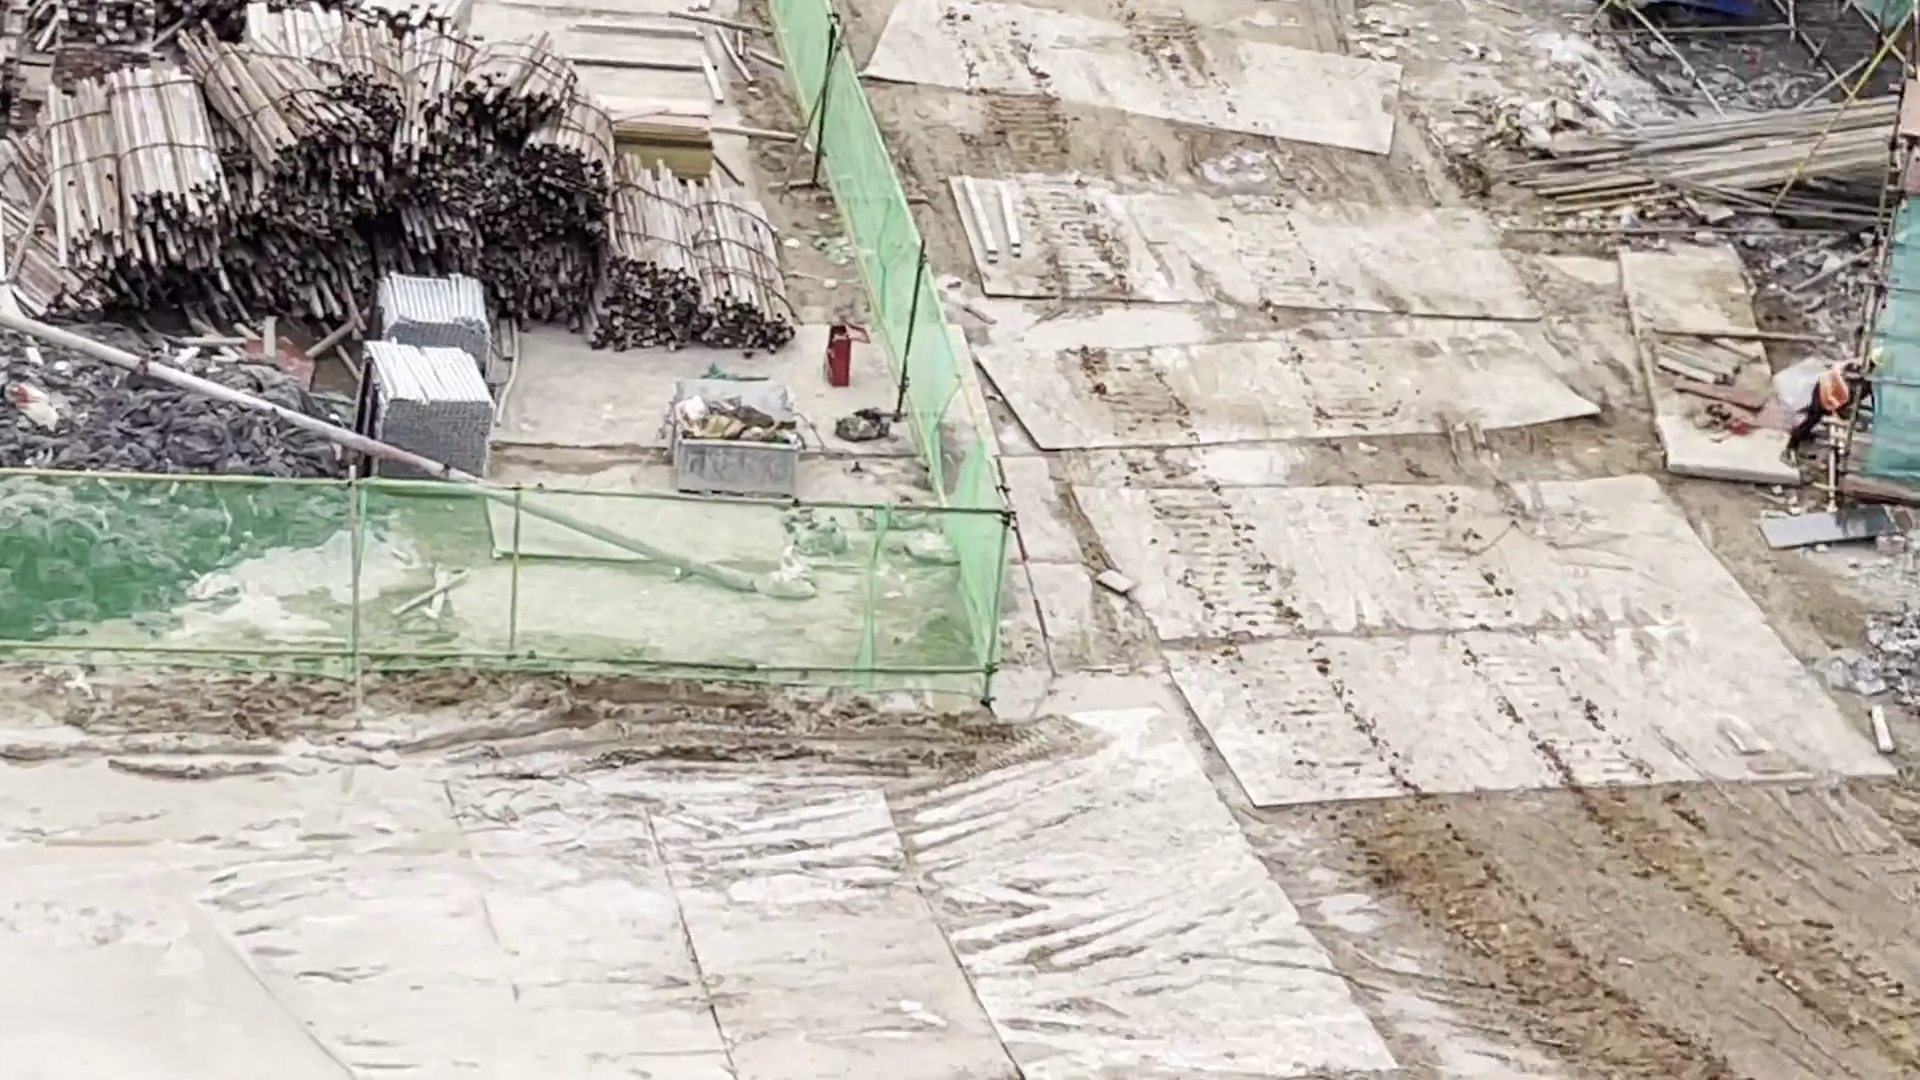helmet: (1873, 346, 1894, 374)
hopper: (669, 379, 798, 504)
person: (1781, 332, 1889, 480)
scaffold: (369, 264, 494, 479)
vest: (1815, 358, 1860, 415)
